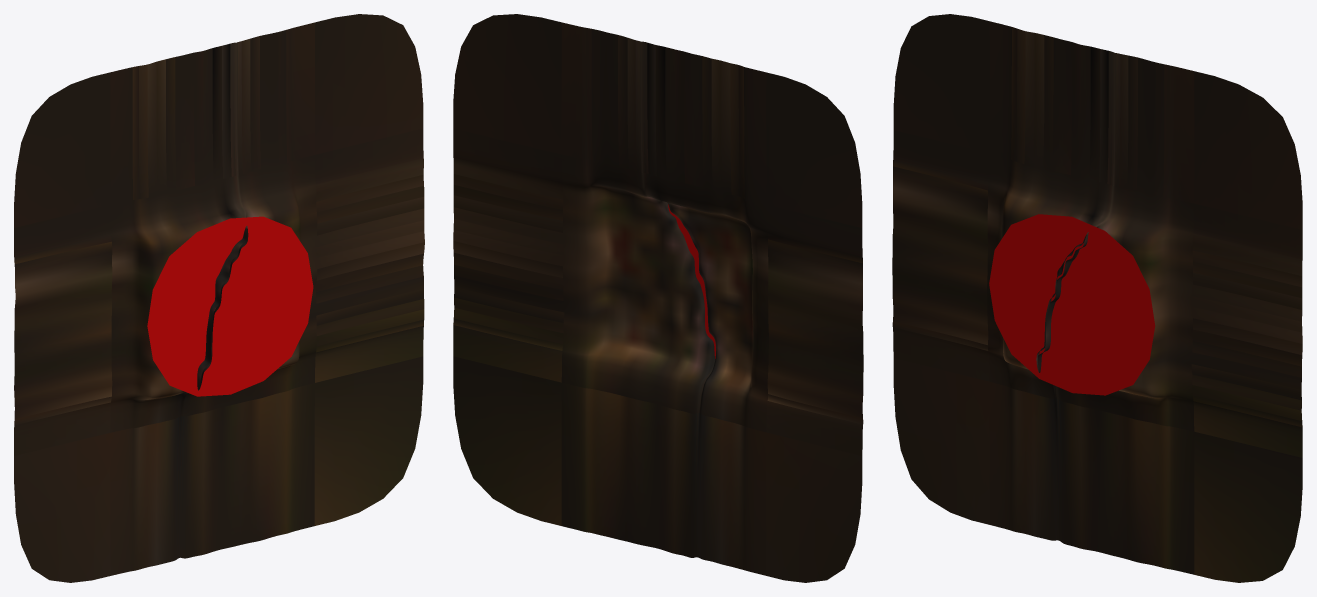
Rendered from pointdread.fbx.
3 views of the same model, side by side, from view 1: azimuth 30°, elevation 25°; view 2: azimuth 150°, elevation 25°; view 3: azimuth 330°, elevation 25° (orthographic).
Parts seen in each view (by area): view 1: Cube; view 2: Cube; view 3: Cube.
Boxes of the visible parts, bbox=[...] form: Cube: bbox=[14, 14, 424, 582]; Cube: bbox=[453, 14, 863, 582]; Cube: bbox=[892, 14, 1302, 582].
Size of the model in its own units: 125 by 148 by 12.2.
